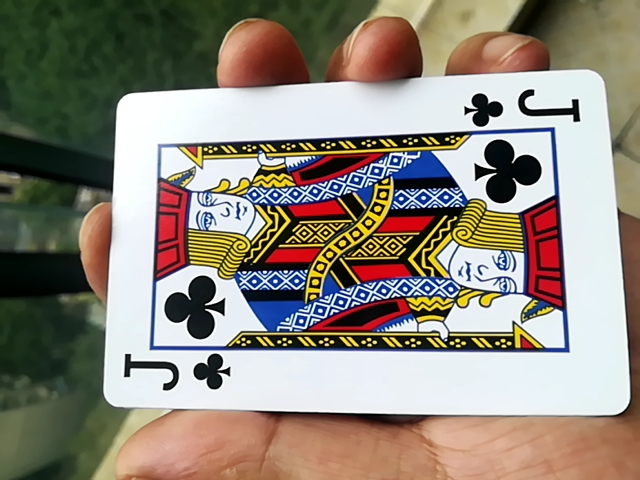mh j: (84, 85, 621, 420)
